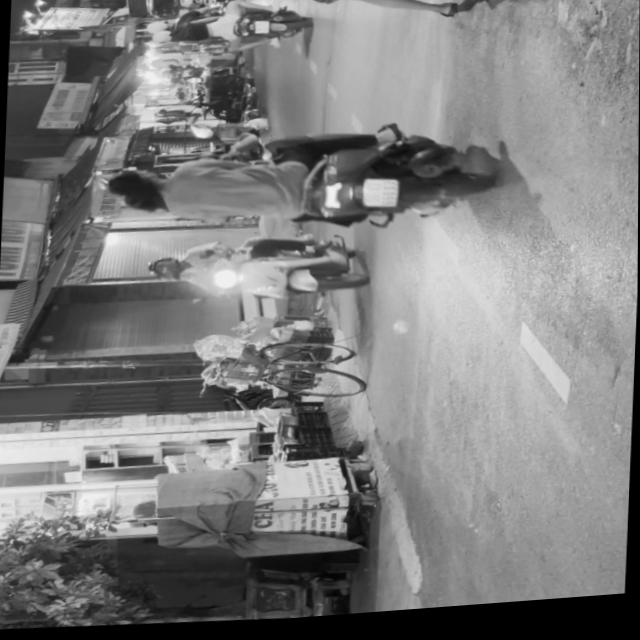helmet: (142, 259, 181, 282), (144, 22, 170, 38)
licenseplate: (99, 113, 503, 256), (139, 231, 373, 316), (110, 0, 497, 44), (143, 1, 311, 62)
motorcyclist: (103, 169, 165, 206)
nohelmet: (362, 183, 397, 214), (253, 25, 267, 38)
